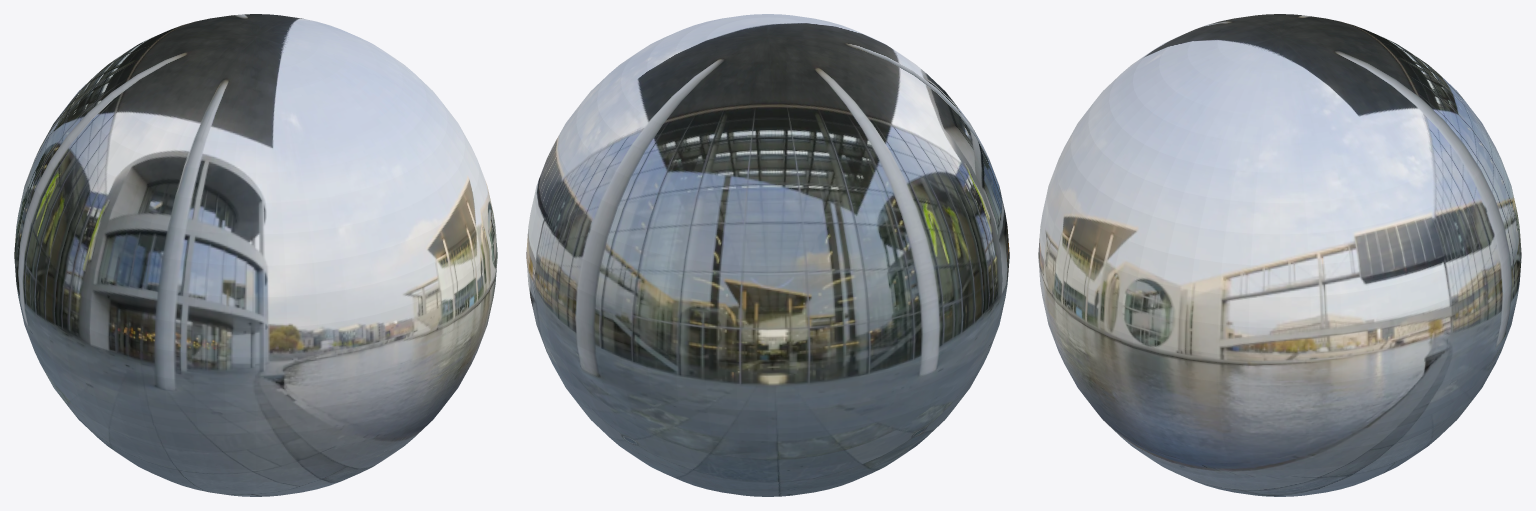
Rendered from superior-4096.glb.
3 renders of one model, left to right at view 1: azimuth 30°, elevation 25°; view 2: azimuth 150°, elevation 25°; view 3: azimuth 270°, elevation 25°, orthographic.
Parts seen in each view (by area): view 1: fora; view 2: fora; view 3: fora.
Boxes of the visible parts, left/top/right/bottom form: fora: left=14, top=14, right=497, bottom=496; fora: left=526, top=14, right=1009, bottom=496; fora: left=1038, top=14, right=1521, bottom=496.
Bounding box in the file's own units: 80 × 80 × 80.
3 materials, 3 textured.
